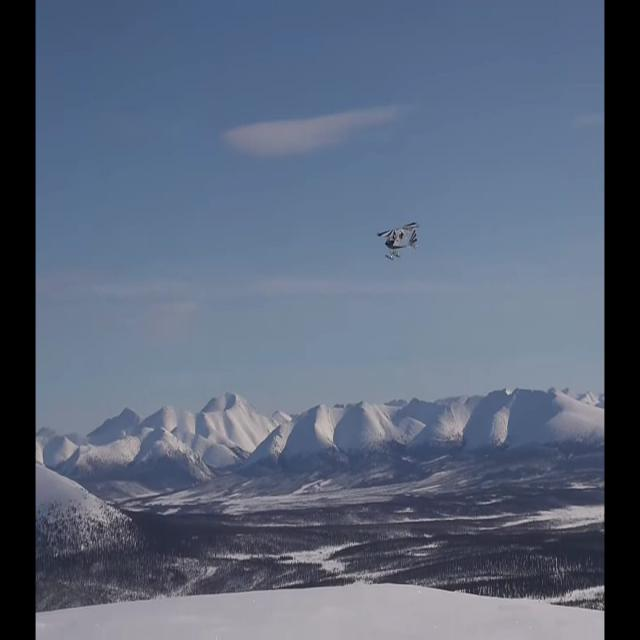iha: (376, 221, 421, 262)
